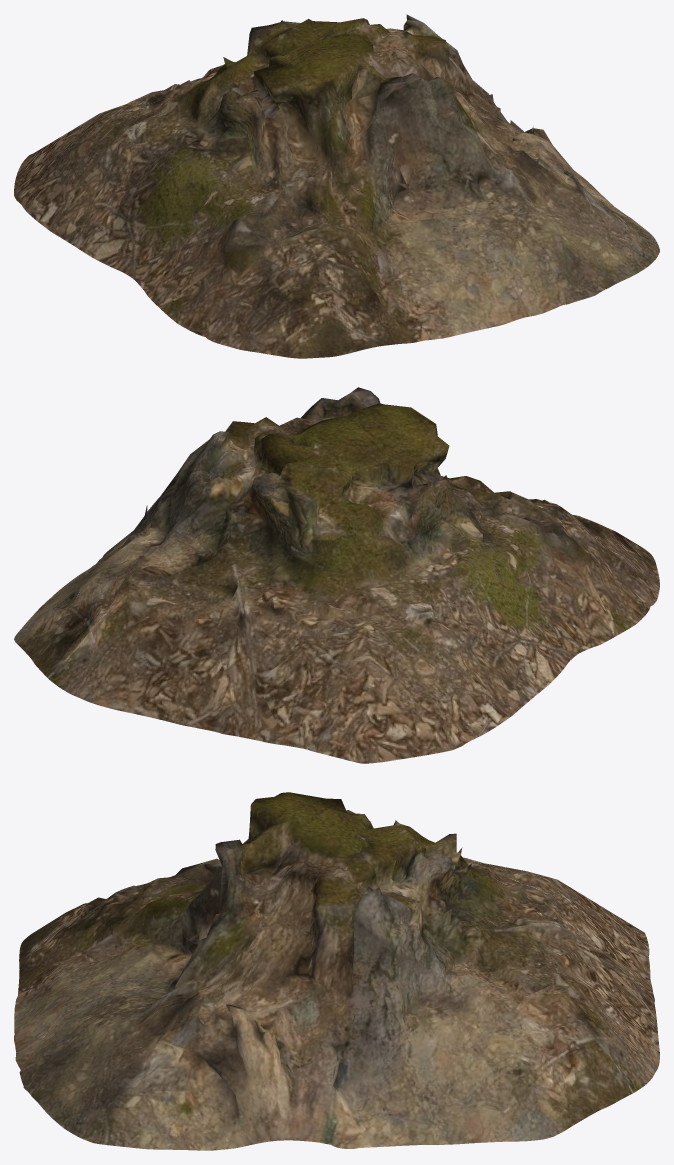
The model's file is tree_stump_01.glb.
3 views of the same model, one above another, from view 1: azimuth 30°, elevation 25°; view 2: azimuth 150°, elevation 25°; view 3: azimuth 270°, elevation 25° (orthographic). The views are drawn at different scales.
Size of the model in its own units: 1.43 by 0.5711 by 1.59.
1 material, 1 textured.
